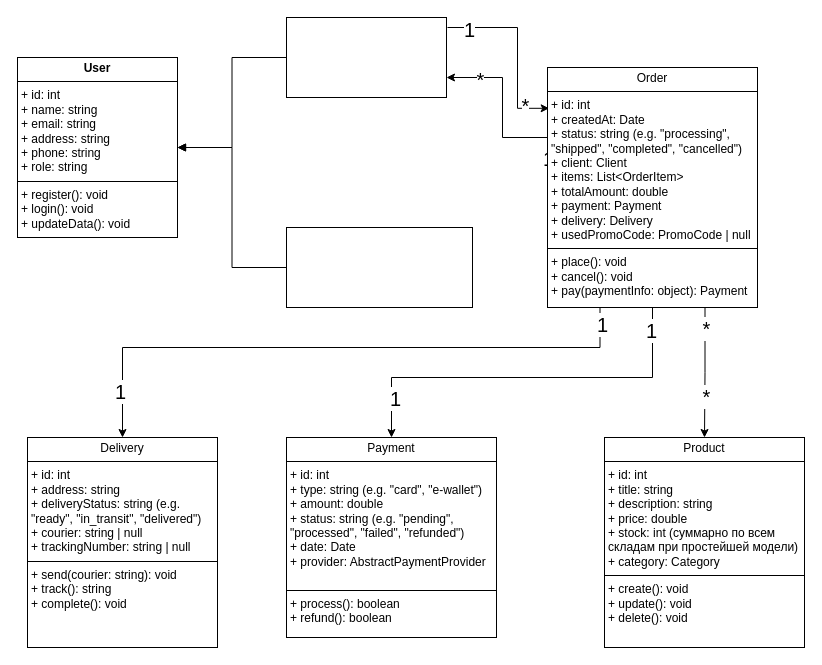
Image size: 822x665. Some labels were removed from this diagram. The centre of each missing label's shape, as x and y in pixels:
"Admin (наследует User) + adminId: int + logAction(action: string): void" goes at point 379,267.
"Client (наследует User) + orderHistory: List<Order> + viewOrders(): void" goes at point 366,57.
